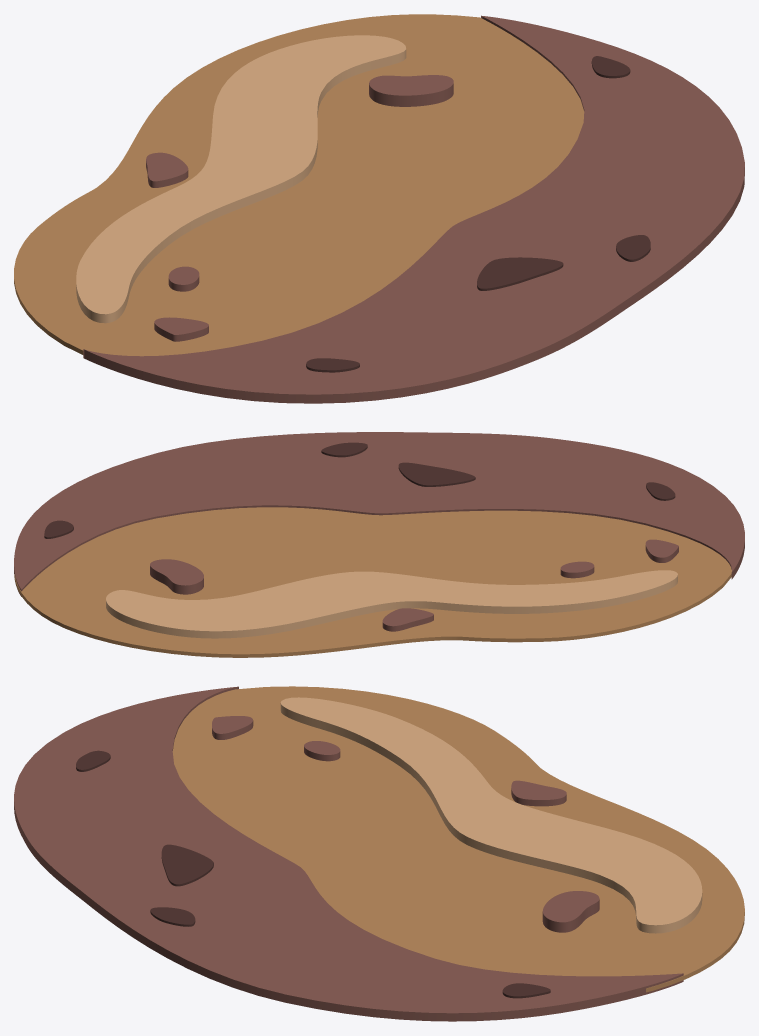
File: emoji_u1f954.glb
3 views of the same model, one above another, from view 1: azimuth 30°, elevation 25°; view 2: azimuth 150°, elevation 25°; view 3: azimuth 270°, elevation 25° (orthographic). The views are drawn at different scales.
Visible parts, largest first — view 1: emoji_u1f954; view 2: emoji_u1f954; view 3: emoji_u1f954.
Boxes of the visible parts, x1=… form: emoji_u1f954: x1=14, y1=14, x2=744, y2=403; emoji_u1f954: x1=14, y1=432, x2=744, y2=657; emoji_u1f954: x1=14, y1=686, x2=744, y2=1021.
Size of the model in its own units: 0.034 by 0.0012 by 0.0319.
